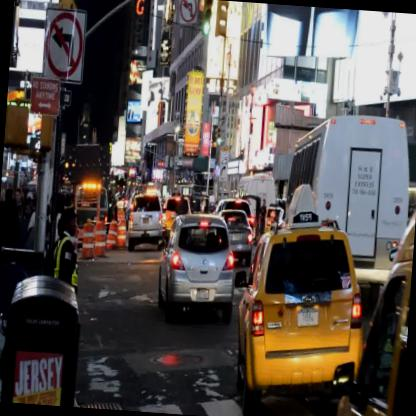car: (231, 222, 369, 415), (333, 171, 415, 415), (157, 211, 238, 326), (216, 207, 256, 268), (127, 192, 166, 252), (162, 195, 192, 240)
